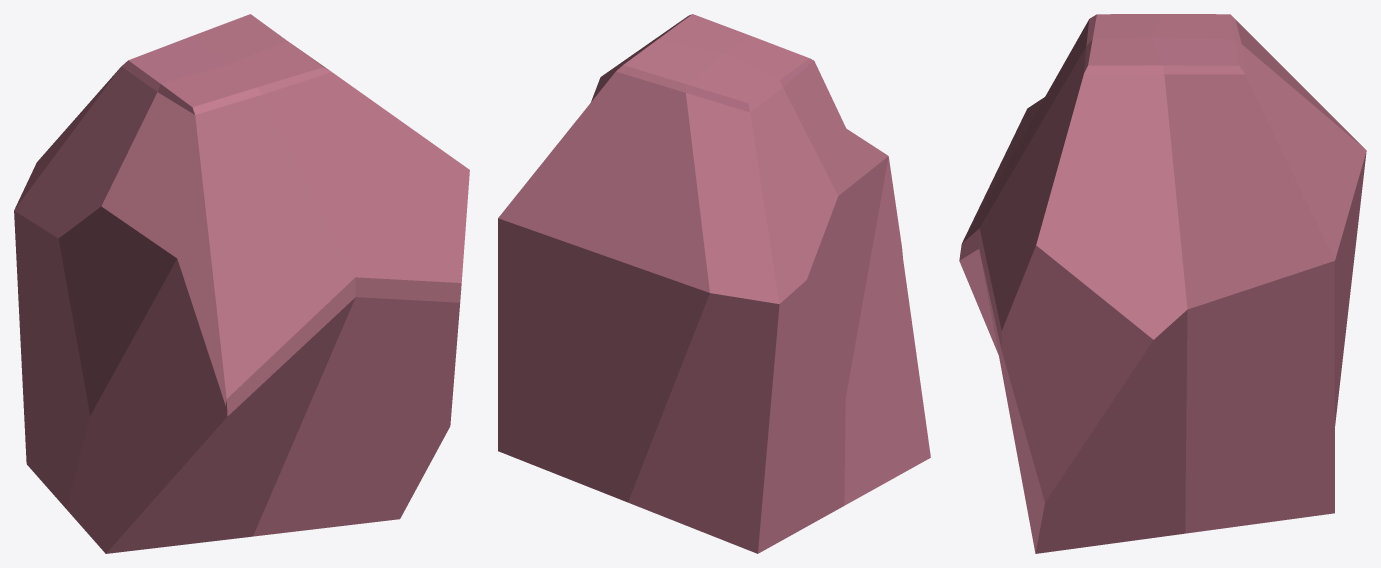
The model's file is Big Rock2.fbx.
The picture shows the model from 3 angles, left to right: view 1: azimuth 30°, elevation 25°; view 2: azimuth 150°, elevation 25°; view 3: azimuth 270°, elevation 25°; orthographic projection. The views are drawn at different scales.
Parts seen in each view (by area): view 1: BigRock2; view 2: BigRock2; view 3: BigRock2.
Boxes of the visible parts, <box> form: BigRock2: <box>14,14,469,553</box>; BigRock2: <box>498,14,930,553</box>; BigRock2: <box>959,14,1366,553</box>.
Bounding box in the file's own units: 258 × 310 × 248.
